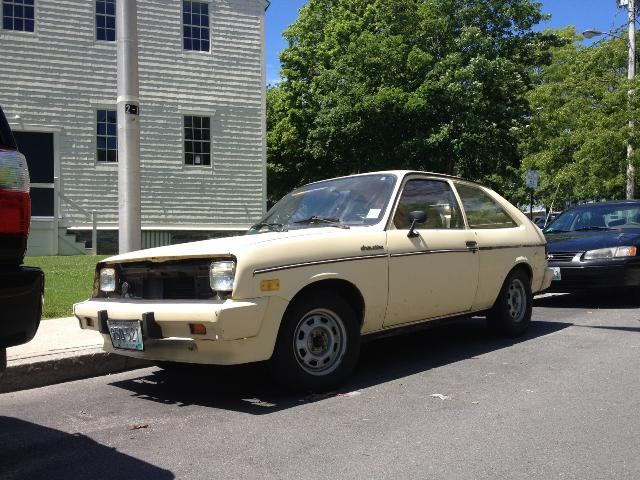chevette-1983: (74, 170, 554, 392)
